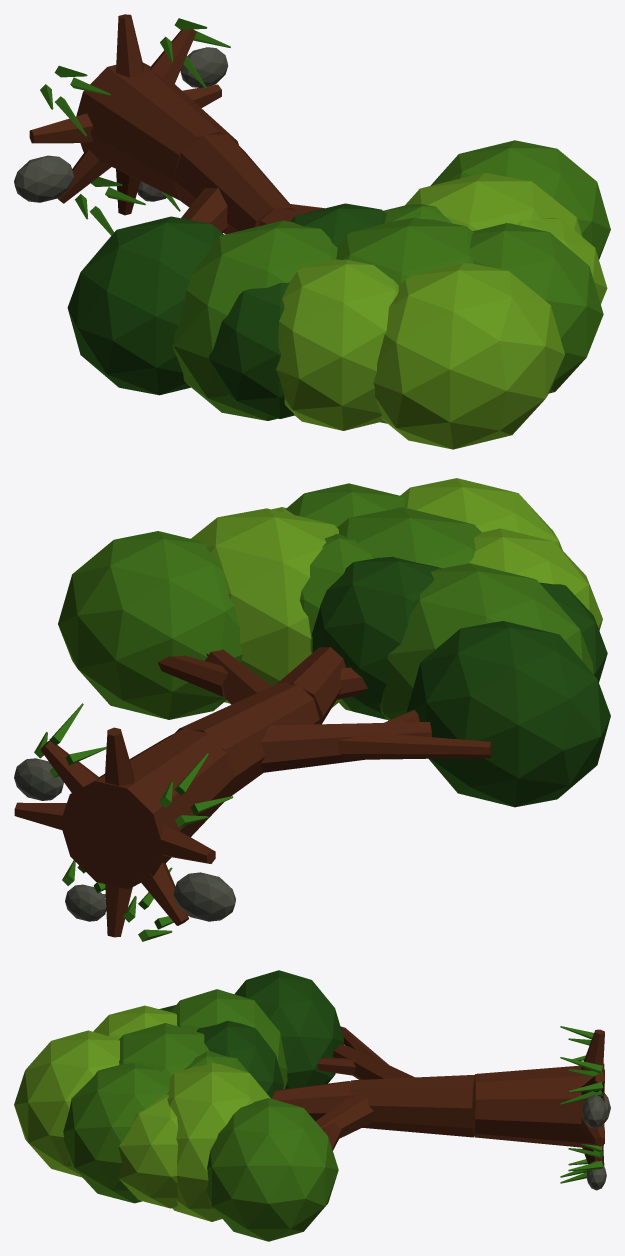
File: StylizedTree.obj
3 renders of one model, top to bottom at view 1: azimuth 30°, elevation 25°; view 2: azimuth 150°, elevation 25°; view 3: azimuth 270°, elevation 25°, orthographic. The views are drawn at different scales.
Parts seen in each view (by area): view 1: StylizedTree; view 2: StylizedTree; view 3: StylizedTree.
Boxes of the visible parts, left/top/right/bottom form: StylizedTree: left=14, top=14, right=610, bottom=449; StylizedTree: left=14, top=478, right=610, bottom=941; StylizedTree: left=14, top=970, right=610, bottom=1241.
Size of the model in its own units: 4.44 by 1.69 by 5.79.
